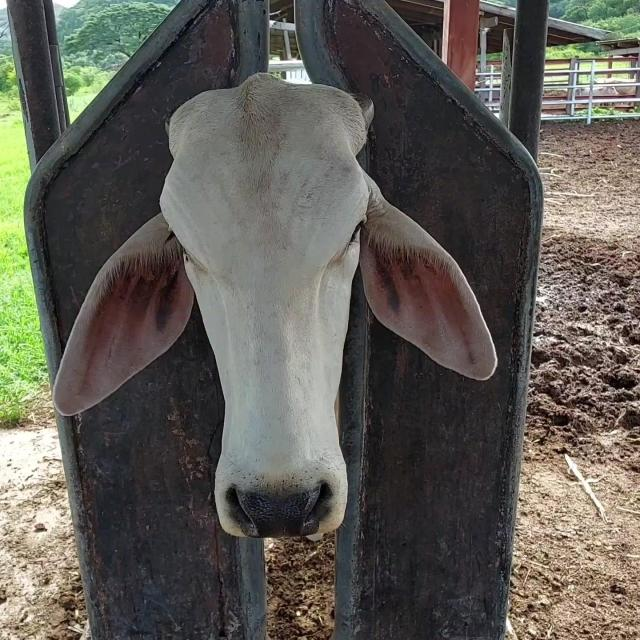cowFace: (166, 78, 368, 535)
